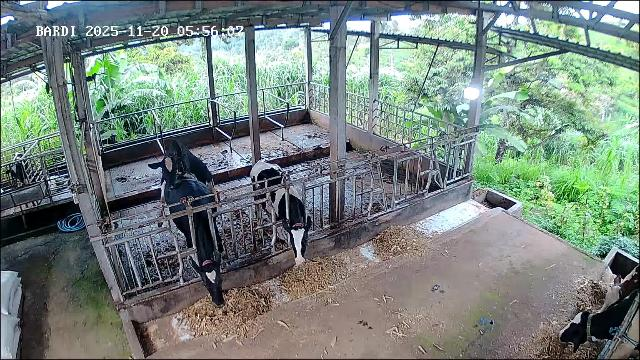mounting: (140, 140, 220, 218)
